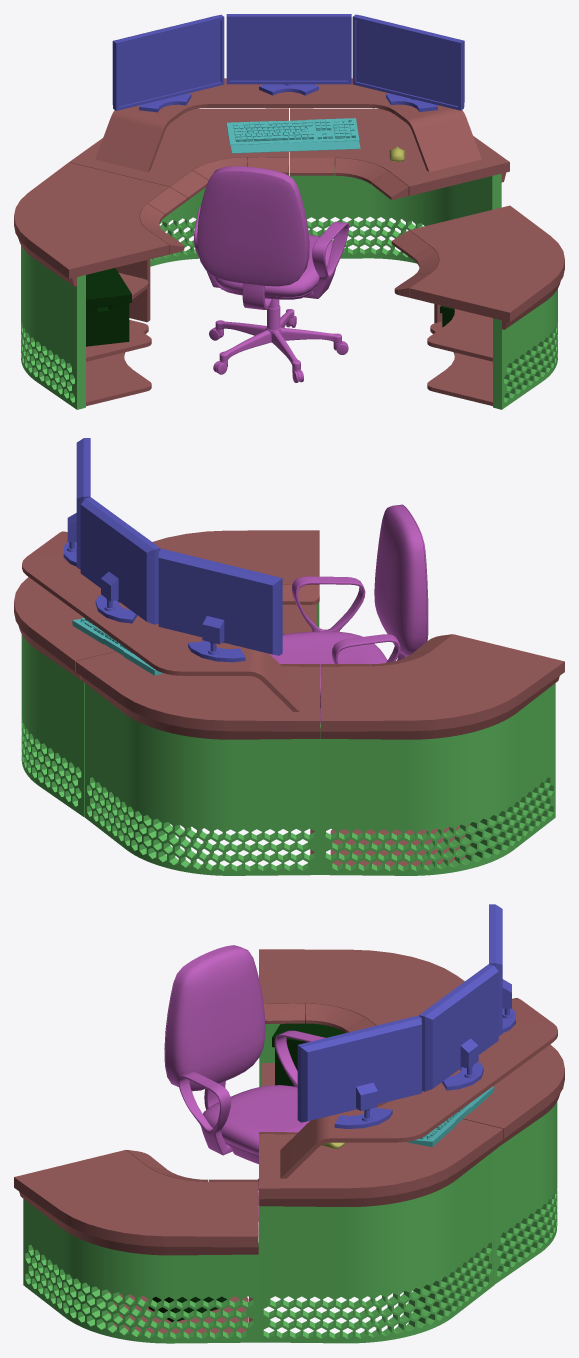
Rendered from Sci-Fi Table UV MATS ALL.fbx.
3 views of the same model, one above another, from view 1: azimuth 30°, elevation 25°; view 2: azimuth 150°, elevation 25°; view 3: azimuth 270°, elevation 25° (orthographic). The views are drawn at different scales.
Parts seen in each view (by area): view 1: Chair, polySurface142, polySurface151, pCylinder68, polySurface127, polySurface165, polySurface134, polySurface115, polySurface145, polySurface160, polySurface156, polySurface136 (+18 smaller); view 2: polySurface159, polySurface145, polySurface151, polySurface156, Chair, polySurface115, pCylinder68, polySurface165, polySurface127, polySurface142, polySurface160, polySurface147 (+6 smaller); view 3: polySurface165, polySurface136, Chair, polySurface142, polySurface160, polySurface151, polySurface134, pCylinder68, polySurface159, polySurface127, polySurface156, polySurface138 (+7 smaller).
Boxes of the visible parts, x1=… form: Chair: x1=194, y1=166, x2=349, y2=382; polySurface142: x1=409, y1=205, x2=564, y2=322; polySurface151: x1=14, y1=162, x2=169, y2=278; pCylinder68: x1=95, y1=78, x2=481, y2=172; polySurface127: x1=226, y1=14, x2=351, y2=95; polySurface165: x1=289, y1=152, x2=501, y2=263; polySurface134: x1=352, y1=14, x2=464, y2=112; polySurface115: x1=112, y1=14, x2=224, y2=112; polySurface145: x1=21, y1=245, x2=85, y2=409; polySurface160: x1=290, y1=108, x2=509, y2=195; polySurface156: x1=69, y1=108, x2=288, y2=186; polySurface136: x1=493, y1=289, x2=557, y2=409; polySurface159: x1=85, y1=683, x2=320, y2=875; polySurface145: x1=320, y1=683, x2=555, y2=875; polySurface151: x1=320, y1=634, x2=564, y2=731; polySurface156: x1=75, y1=651, x2=319, y2=731; Chair: x1=270, y1=504, x2=428, y2=724; polySurface115: x1=158, y1=549, x2=282, y2=662; pCylinder68: x1=22, y1=531, x2=299, y2=711; polySurface165: x1=21, y1=634, x2=84, y2=817; polySurface127: x1=80, y1=497, x2=160, y2=624; polySurface142: x1=152, y1=530, x2=319, y2=584; polySurface160: x1=14, y1=577, x2=115, y2=671; polySurface147: x1=320, y1=676, x2=559, y2=739; polySurface165: x1=259, y1=1150, x2=494, y2=1343; polySurface136: x1=23, y1=1199, x2=258, y2=1343; Chair: x1=164, y1=945, x2=325, y2=1221; polySurface142: x1=14, y1=1150, x2=258, y2=1247; polySurface160: x1=259, y1=1119, x2=503, y2=1199; polySurface151: x1=259, y1=949, x2=464, y2=1025; polySurface134: x1=297, y1=1015, x2=421, y2=1128; pCylinder68: x1=280, y1=998, x2=557, y2=1178; polySurface159: x1=494, y1=1101, x2=557, y2=1284; polySurface127: x1=419, y1=964, x2=498, y2=1091; polySurface156: x1=463, y1=1044, x2=564, y2=1138; polySurface138: x1=19, y1=1191, x2=258, y2=1255.
Size of the model in its own units: 12.12 by 6.73 by 11.8.
